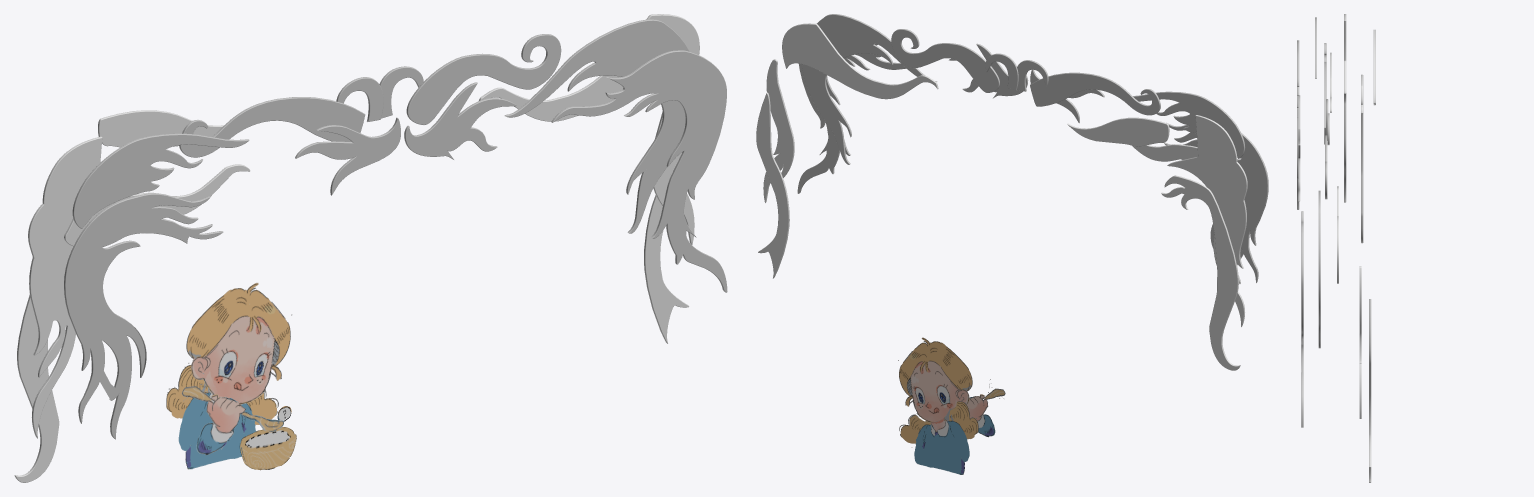
The model's file is page2.fbx.
The picture shows the model from 3 angles, left to right: view 1: azimuth 30°, elevation 25°; view 2: azimuth 150°, elevation 25°; view 3: azimuth 270°, elevation 25°; orthographic projection. The views are drawn at different scales.
Visible parts, largest first — view 1: 样条_32, 样条_1, 平面, 样条_35, 样条_4, 样条_33, 样条_12, 样条_16, 平面_1, 样条_36, 样条_13, 样条_2 (+10 smaller); view 2: 样条_35, 平面, 样条_4, 样条_2, 样条_36, 平面_1, 样条_32, 样条_16, 样条_12, 样条_7, 样条_33, 样条_37 (+6 smaller); view 3: 样条_1, 样条_35, 样条_7, 样条_36, 样条_4, 样条_6, 样条_32, 样条_16.
Boxes of the visible parts, x1,y1,x2,y2 form: 样条_32: [64, 193, 223, 439]; 样条_1: [551, 50, 727, 292]; 平面: [186, 282, 292, 404]; 样条_35: [28, 136, 102, 438]; 样条_4: [504, 19, 689, 233]; 样条_33: [72, 133, 249, 228]; 样条_12: [406, 34, 561, 124]; 样条_16: [179, 97, 365, 157]; 平面_1: [166, 360, 278, 469]; 样条_36: [14, 294, 59, 482]; 样条_13: [404, 82, 516, 159]; 样条_2: [479, 14, 699, 121]; 样条_35: [1167, 115, 1247, 326]; 平面: [898, 337, 972, 422]; 样条_4: [802, 14, 937, 164]; 样条_2: [782, 23, 938, 99]; 样条_36: [1161, 175, 1240, 370]; 平面_1: [899, 398, 978, 474]; 样条_32: [1164, 122, 1268, 282]; 样条_16: [1030, 72, 1160, 115]; 样条_12: [891, 29, 999, 92]; 样条_7: [756, 92, 789, 278]; 样条_33: [1133, 91, 1245, 158]; 样条_37: [1067, 117, 1169, 146]; 样条_1: [1301, 211, 1303, 427]; 样条_35: [1344, 14, 1346, 202]; 样条_7: [1369, 299, 1371, 482]; 样条_36: [1361, 74, 1363, 243]; 样条_4: [1318, 190, 1320, 348]; 样条_6: [1359, 266, 1361, 418]; 样条_32: [1297, 40, 1299, 209]; 样条_16: [1324, 43, 1326, 144].
Size of the model in its own units: 765 by 523 by 303.
7 materials, 4 textured.
